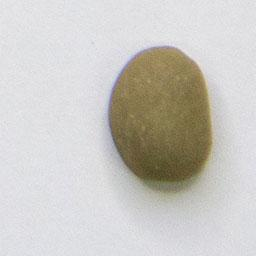premium: (103, 42, 217, 186)
